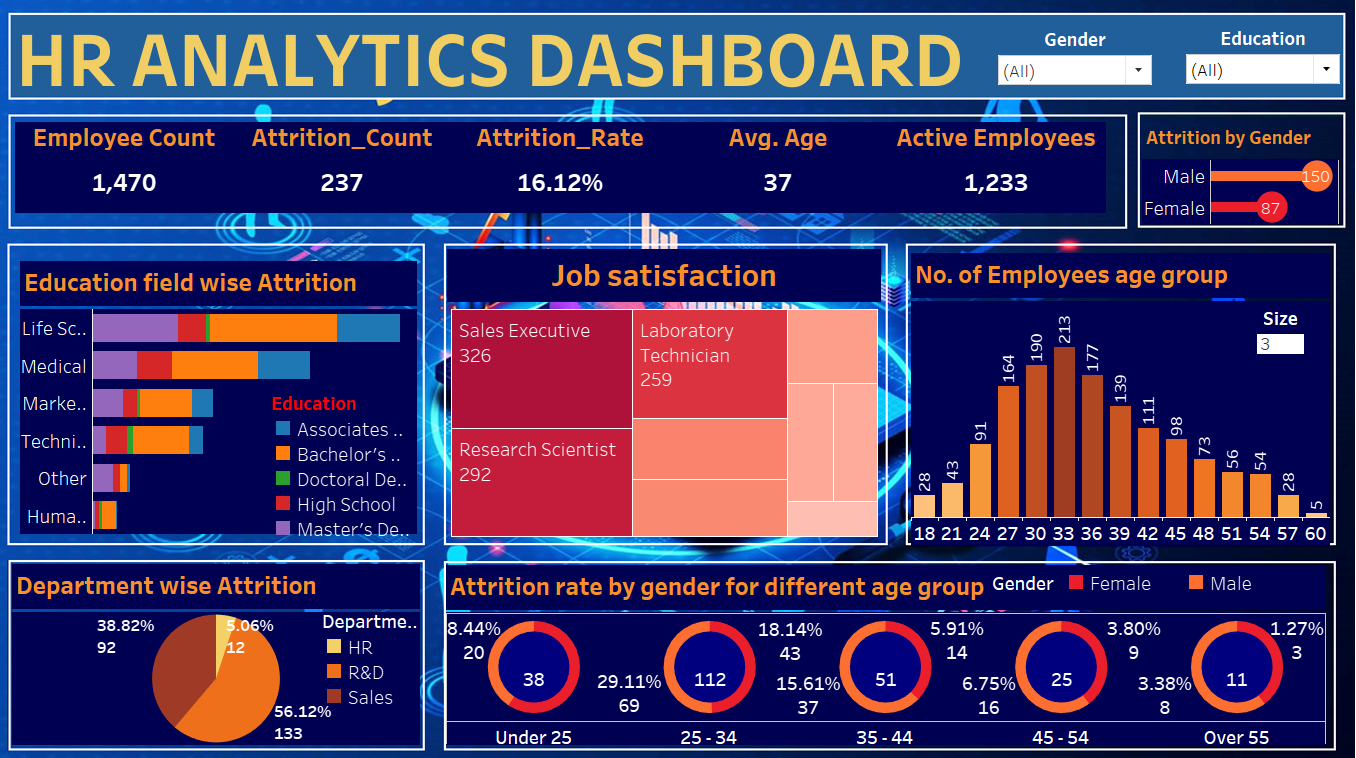

The dashboard page shown, as its layout file describes it:
{"tool":"tableau","page":{"name":"HR ANALYTICS DASHBOARD","canvas":[1380,800],"ordinal":0},"visuals":[{"type":"image","param":"Image/pic2.png","box":[8,8,1364,784]},{"type":"text","box":[25,41,1009,75]},{"type":"filter","title":"Education field wise Attrition","param":"[federated.0l82jno1mjxzky1agix350ayeox2].[none:Education:nk]","box":[1196,47,160,194]},{"type":"filter","title":"Department wise attrition","param":"[federated.0l82jno1mjxzky1agix350ayeox2].[none:Gender:nk]","box":[1008,48,160,113]},{"type":"worksheet","title":"Attrition by Gender","mark":"Automatic","rows":["Gender"],"cols":["Calculation_1326591580116439040","Calculation_1326591580116439040"],"box":[1155,142,197,104]},{"type":"worksheet","title":"KPI","mark":"Automatic","box":[28,144,1103,97]},{"type":"worksheet","title":"Job satisfaction","mark":"Automatic","box":[460,271,434,291]},{"type":"worksheet","title":"No. of Employees age group","mark":"Automatic","rows":["Employee Count"],"cols":["Age (bin)"],"box":[924,275,419,293]},{"type":"worksheet","title":"Education field wise Attrition","mark":"Automatic","rows":["Education Field"],"cols":["Calculation_1326591580116439040"],"box":[33,283,397,273]},{"type":"parameter","param":"[Parameters].[Parameter 1]","box":[1267,327,53,73]},{"type":"legend","title":"Education field wise Attrition","param":"[federated.0l82jno1mjxzky1agix350ayeox2].[none:Education:nk]","box":[284,412,146,157]},{"type":"worksheet","title":"Department wise attrition","mark":"Pie","box":[25,586,408,181]},{"type":"worksheet","title":"Attrition rate by gender for different age group ","mark":"Pie","rows":["Calculation_119063930638376961","Calculation_119063930638540803"],"cols":["CF_age band"],"box":[459,587,880,180]},{"type":"legend","title":"Attrition rate by gender for different age group ","param":"[federated.0l82jno1mjxzky1agix350ayeox2].[none:Gender:nk]","box":[1005,592,339,48]},{"type":"legend","title":"Department wise attrition","param":"[federated.0l82jno1mjxzky1agix350ayeox2].[none:Department:nk]","box":[335,630,98,110]}]}

Visuals, with their boxes in screenshot pixels (x1, y1, x2, y2):
image: 0,0,1355,757
text: 4,13,1019,88
"Education field wise Attrition" filter: 1182,19,1343,214
"Department wise attrition" filter: 993,20,1154,134
"Attrition by Gender" worksheet: 1141,115,1339,219
"KPI" worksheet: 7,117,1117,214
"Job satisfaction" worksheet: 442,244,878,537
"No. of Employees age group" worksheet: 908,248,1330,543
"Education field wise Attrition" worksheet: 12,256,411,531
parameter: 1253,301,1307,374
"Education field wise Attrition" legend: 265,386,411,544
"Department wise attrition" worksheet (Pie marks): 4,561,414,743
"Attrition rate by gender for different age group " worksheet (Pie marks): 441,562,1326,743
"Attrition rate by gender for different age group " legend: 990,567,1331,616
"Department wise attrition" legend: 316,606,414,716
